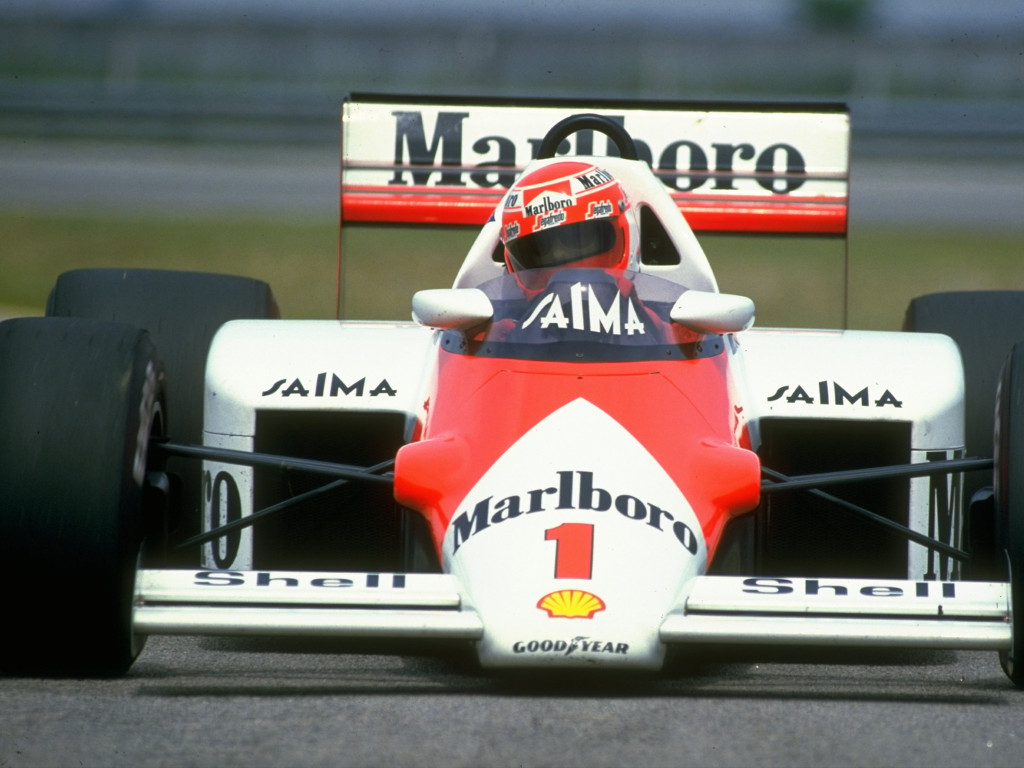f1_car: (5, 73, 1024, 714)
